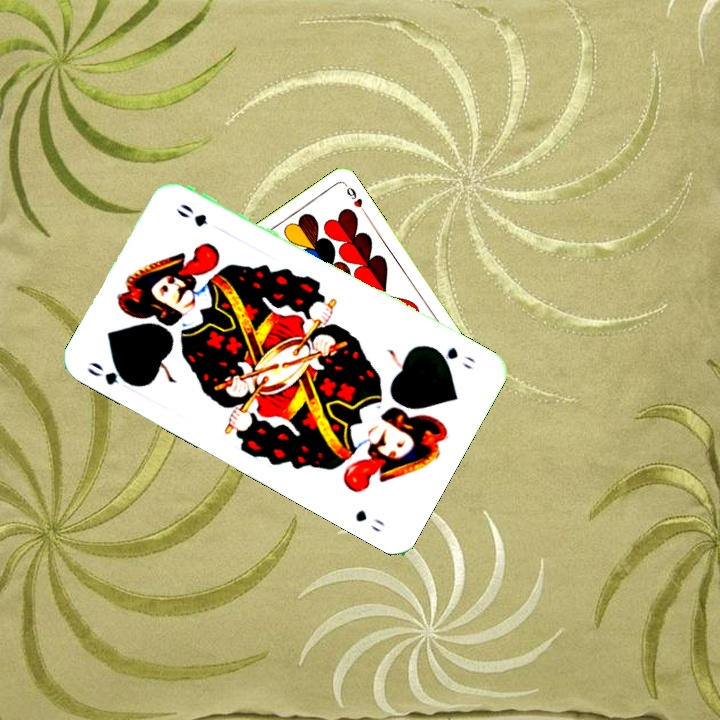GO: (82, 357, 140, 390), (427, 342, 477, 373)
